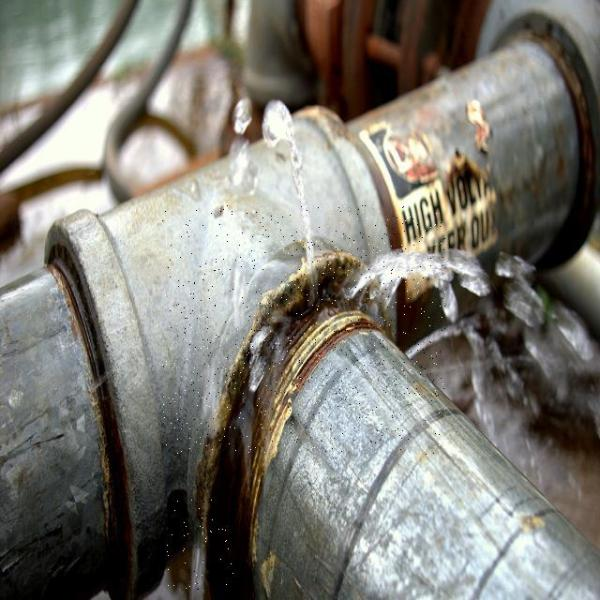water: (244, 240, 416, 397)
